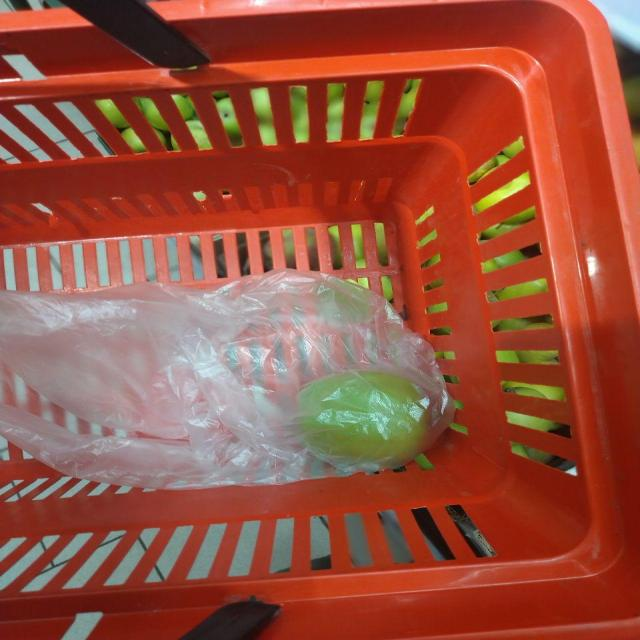Apple: (298, 371, 428, 465)
